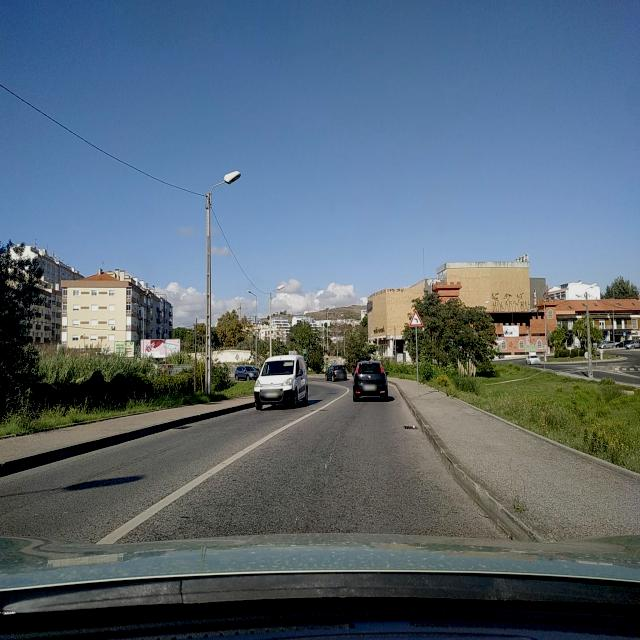car: (253, 353, 309, 410), (353, 359, 388, 402), (234, 364, 260, 381), (326, 364, 347, 382), (525, 352, 543, 366)
